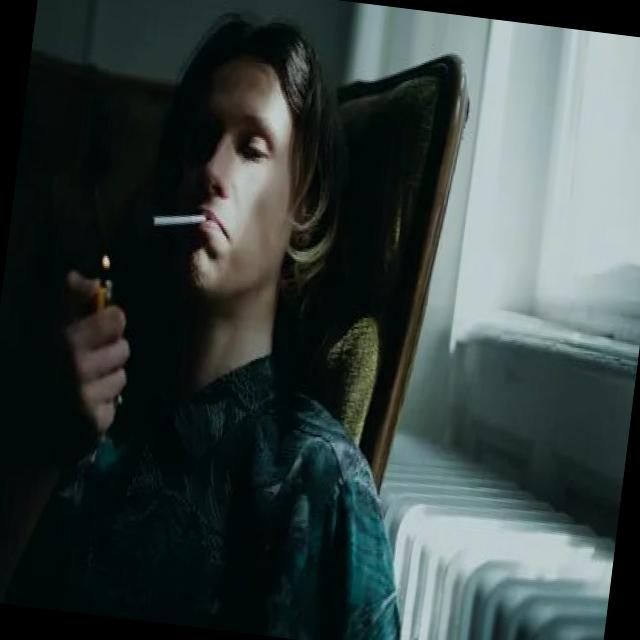smoke: (146, 197, 215, 246)
